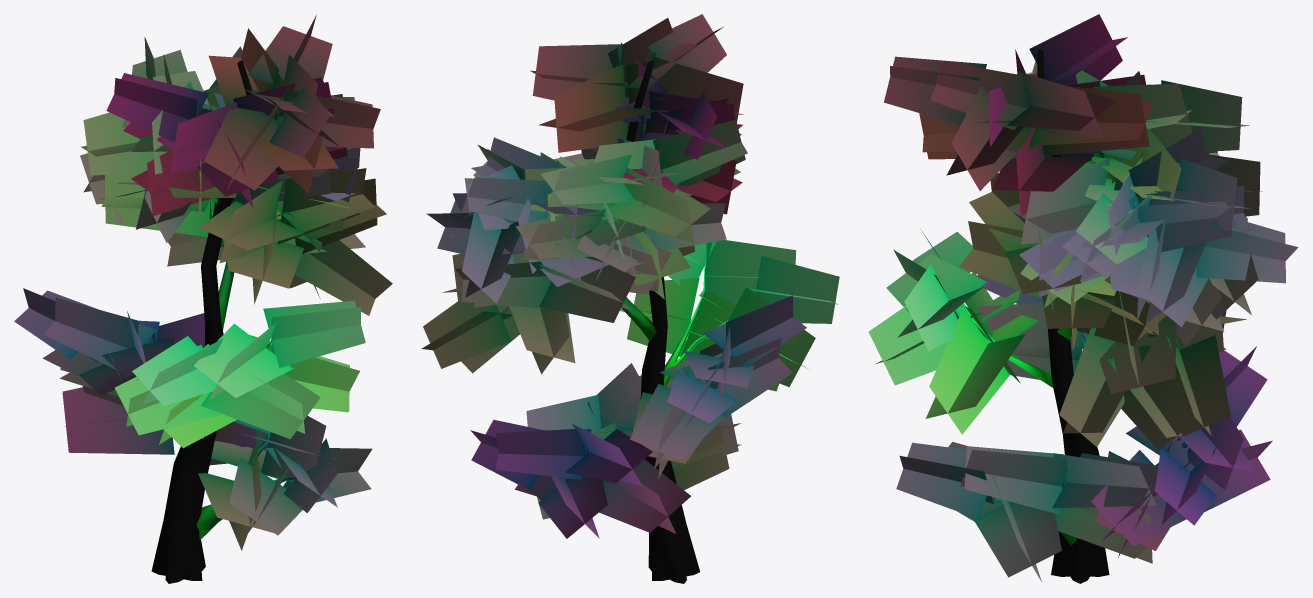
Rendered from M_Realistic12_4.fbx.
3 renders of one model, left to right at view 1: azimuth 30°, elevation 25°; view 2: azimuth 150°, elevation 25°; view 3: azimuth 270°, elevation 25°, orthographic. The views are drawn at different scales.
Visible parts, largest first — view 1: Tree_4; view 2: Tree_4; view 3: Tree_4.
Boxes of the visible parts, box(x1,y1,x2,y2) form: Tree_4: box(14, 14, 392, 583); Tree_4: box(421, 14, 839, 583); Tree_4: box(868, 14, 1298, 583).
Size of the model in its own units: 1205 by 1876 by 1328.
